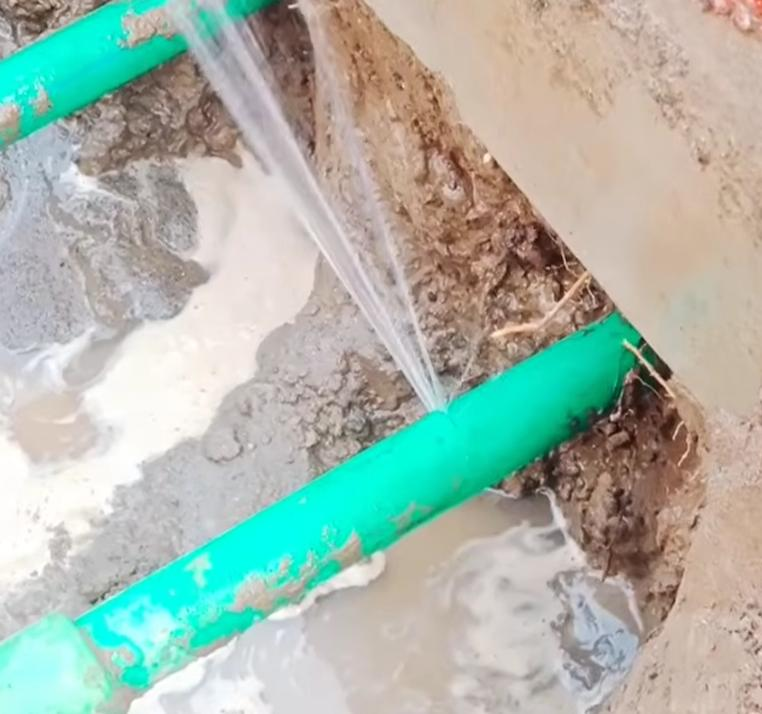pipe burst: (169, 0, 460, 423)
water accumulation: (0, 147, 324, 595), (126, 484, 653, 714)
